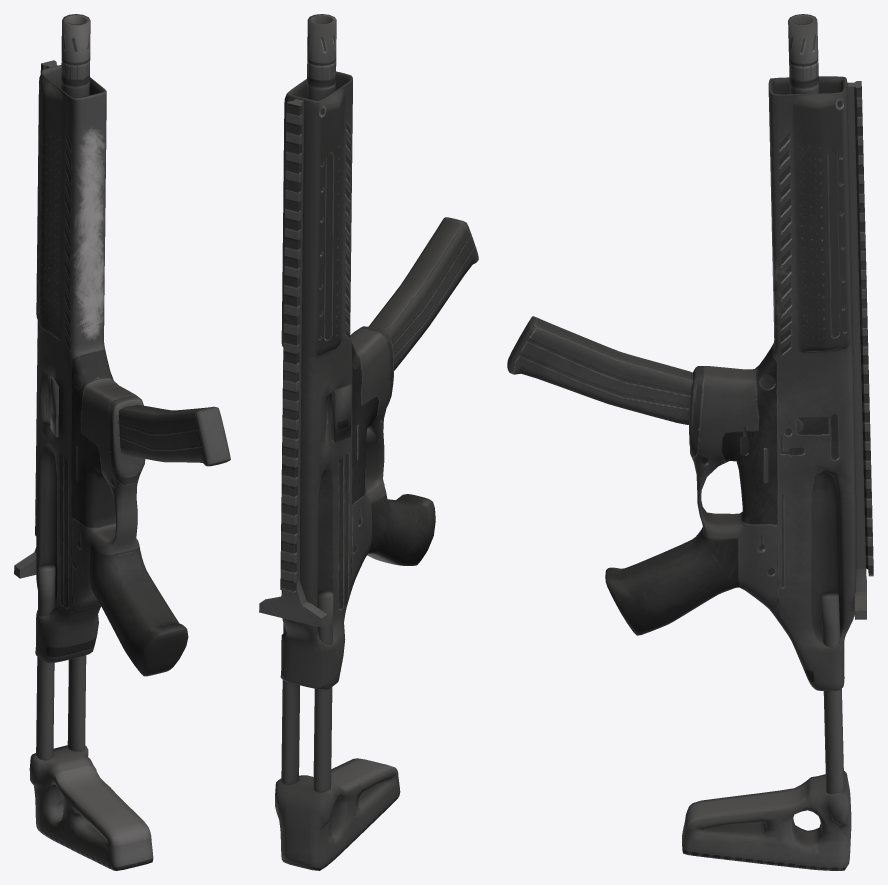
Rendered from TLOG_MPX.fbx.
3 views of the same model, side by side, from view 1: azimuth 30°, elevation 25°; view 2: azimuth 150°, elevation 25°; view 3: azimuth 270°, elevation 25° (orthographic). The views are drawn at different scales.
Visible parts, largest first — view 1: mpx; view 2: mpx; view 3: mpx.
Part boxes in pixels (bbox=[...]): mpx: bbox=[14, 14, 230, 870]; mpx: bbox=[259, 14, 478, 870]; mpx: bbox=[507, 14, 873, 870].
Bounding box in the file's own units: 0.032 × 0.4073 × 0.1606.
